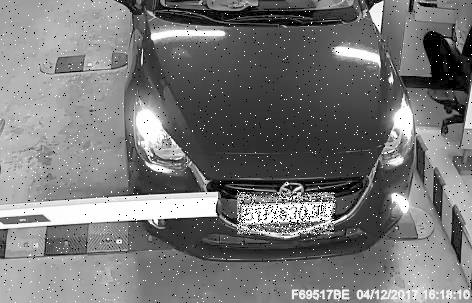License-plate: (239, 194, 337, 237)
